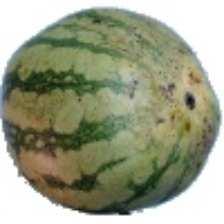watermelon: (25, 15, 215, 192)
